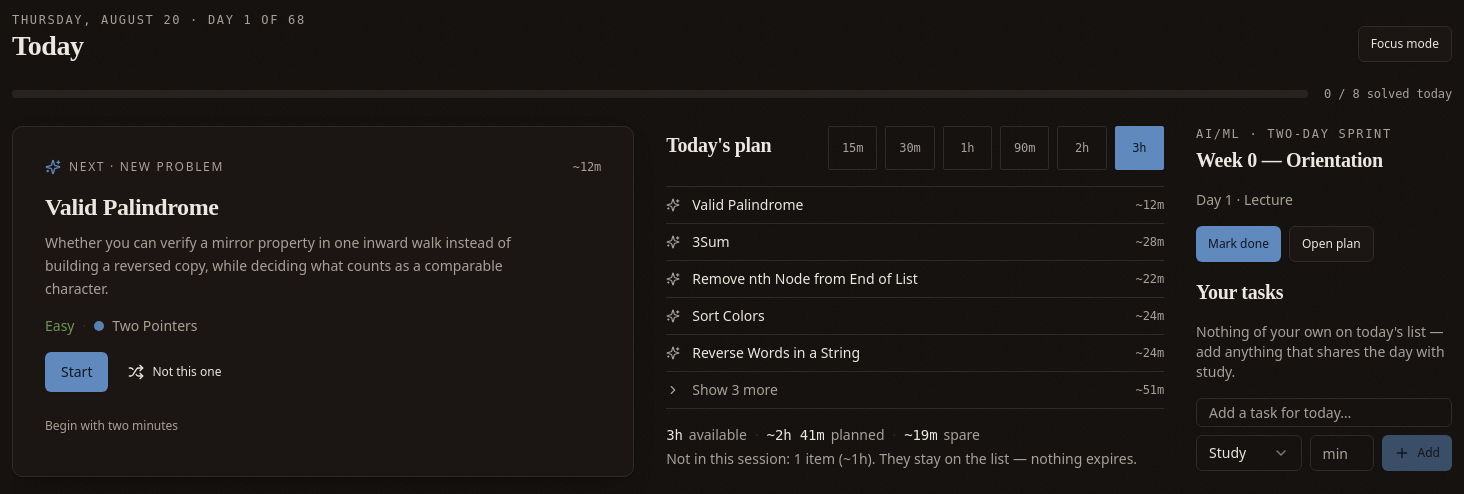
TodayPage — the next action › "Not this one" steps down the ranked list instead of re-rolling
Expected: the heading "Valid Palindrome" is shown, top-left (45, 194), bottom-right (219, 220)
Click the button "Not this one": x=175, y=372 top-left (116, 354), bottom-right (233, 390)
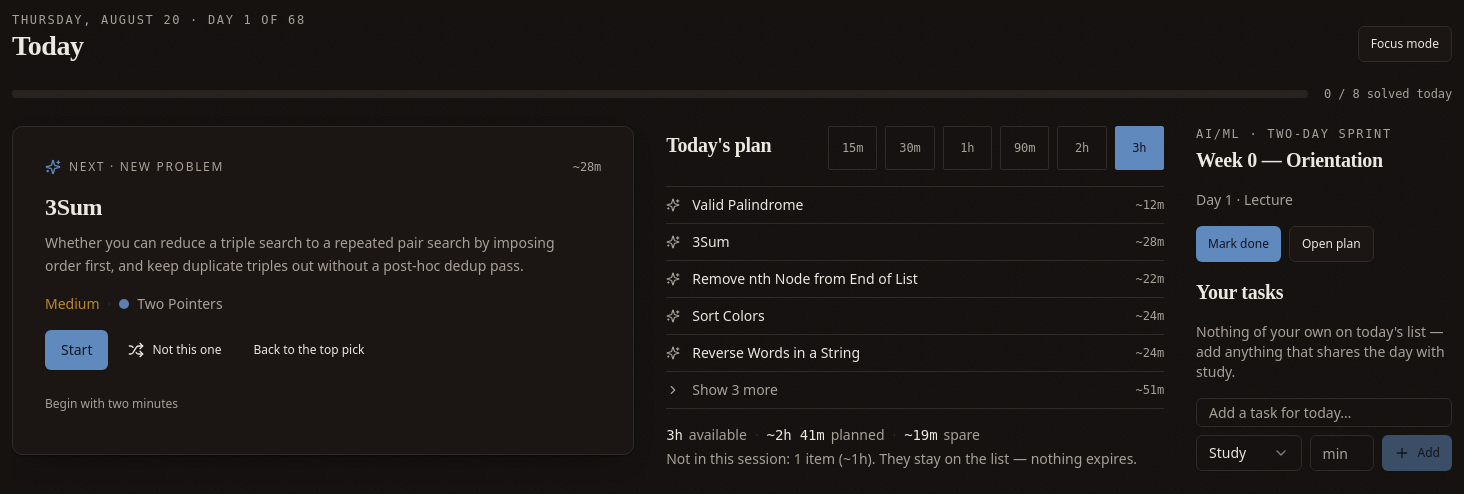
Now the heading "3Sum" is shown, box top-left (45, 194), bottom-right (102, 220)
